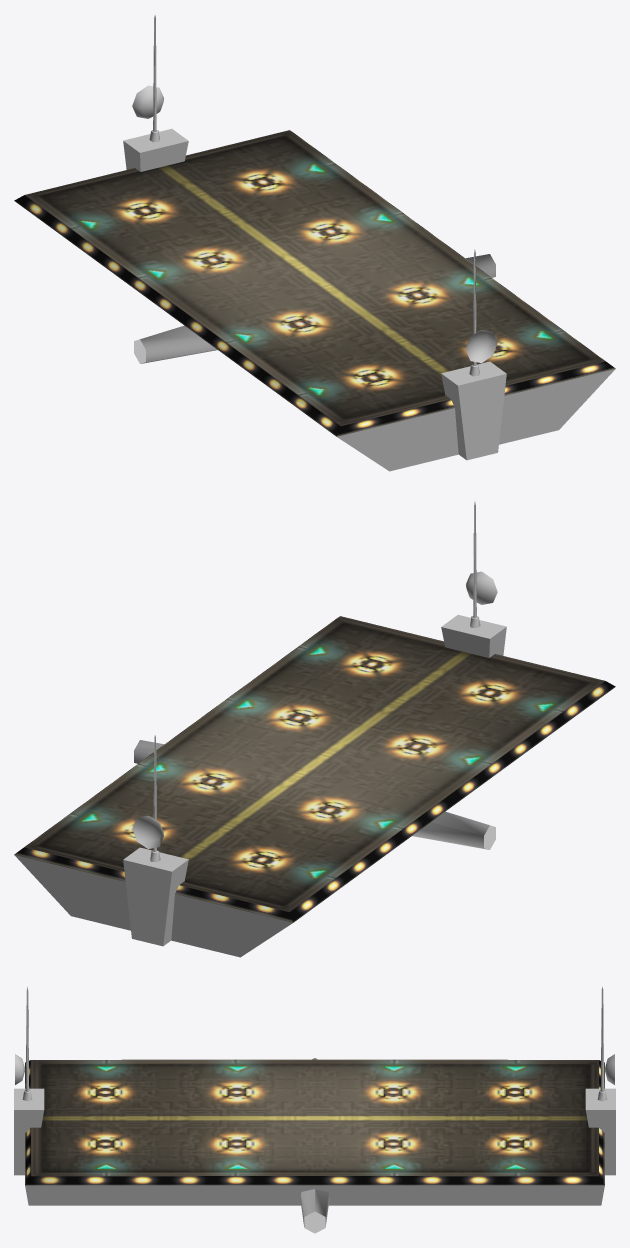
The picture shows the model from 3 angles, top to bottom: view 1: azimuth 30°, elevation 25°; view 2: azimuth 150°, elevation 25°; view 3: azimuth 270°, elevation 25°; orthographic projection. The views are drawn at different scales.
Visible parts, largest first — view 1: frm-fuselg, frm-rfuselg, frm-lfuselg, frm-ffuselg, frm-rantenn2, frm-lantenn2; view 2: frm-fuselg, frm-lfuselg, frm-rfuselg, frm-ffuselg, frm-lantenn2, frm-rantenn2; view 3: frm-fuselg, frm-lfuselg, frm-rfuselg, frm-ffuselg1, frm-lantenn1, frm-rantenn1.
Part boxes in pixels (left/top/right/bottom): frm-fuselg: left=14, top=130, right=615, bottom=471; frm-rfuselg: left=441, top=361, right=506, bottom=460; frm-lfuselg: left=123, top=128, right=188, bottom=171; frm-ffuselg: left=134, top=325, right=217, bottom=363; frm-rantenn2: left=465, top=330, right=497, bottom=363; frm-lantenn2: left=132, top=85, right=163, bottom=118; frm-fuselg: left=14, top=616, right=615, bottom=957; frm-lfuselg: left=123, top=847, right=188, bottom=946; frm-rfuselg: left=441, top=614, right=506, bottom=657; frm-ffuselg: left=412, top=811, right=495, bottom=849; frm-lantenn2: left=132, top=816, right=164, bottom=849; frm-rantenn2: left=466, top=571, right=497, bottom=604; frm-fuselg: left=25, top=1059, right=604, bottom=1205; frm-lfuselg: left=585, top=1088, right=615, bottom=1175; frm-rfuselg: left=14, top=1088, right=44, bottom=1175; frm-ffuselg1: left=300, top=1189, right=329, bottom=1233; frm-lantenn1: left=597, top=986, right=607, bottom=1101; frm-rantenn1: left=22, top=986, right=32, bottom=1101.
Size of what is drawn, in the model's own units: 28.5 by 15.77 by 47.22.
